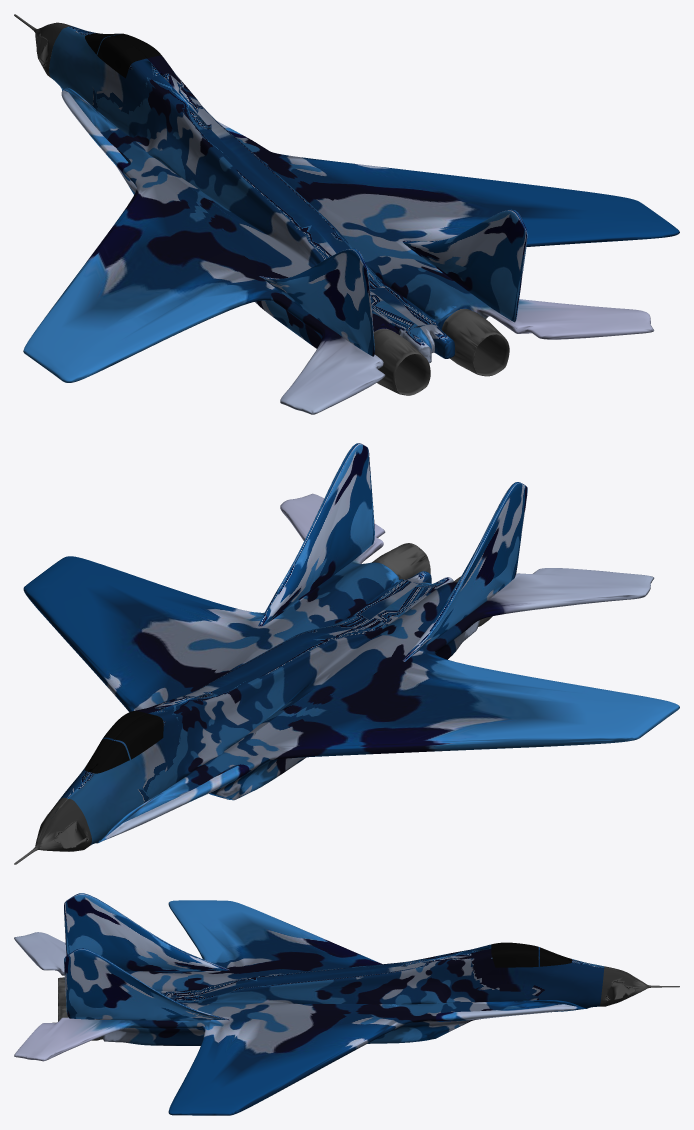
The model's file is e_mig29k.glb.
The picture shows the model from 3 angles, top to bottom: view 1: azimuth 30°, elevation 25°; view 2: azimuth 150°, elevation 25°; view 3: azimuth 270°, elevation 25°; orthographic projection. The views are drawn at different scales.
Visible parts, largest first — view 1: body|Material.002, body|Material.003, body|Material.001; view 2: body|Material.002, body|Material.003, body|Material.001; view 3: body|Material.002, body|Material.003, body|Material.001.
Part boxes in pixels (x1,y1,x2,y2): body|Material.002: (23,26,679,414); body|Material.003: (14,14,509,395); body|Material.001: (85,33,162,78); body|Material.002: (23,443,679,845); body|Material.003: (14,543,492,864); body|Material.001: (85,711,163,773); body|Material.002: (14,893,604,1115); body|Material.003: (58,966,679,1040); body|Material.001: (491,942,571,967).
Size of the model in its own units: 12.56 by 2.96 by 16.55.
Materials: 4 (1 with a texture image).
